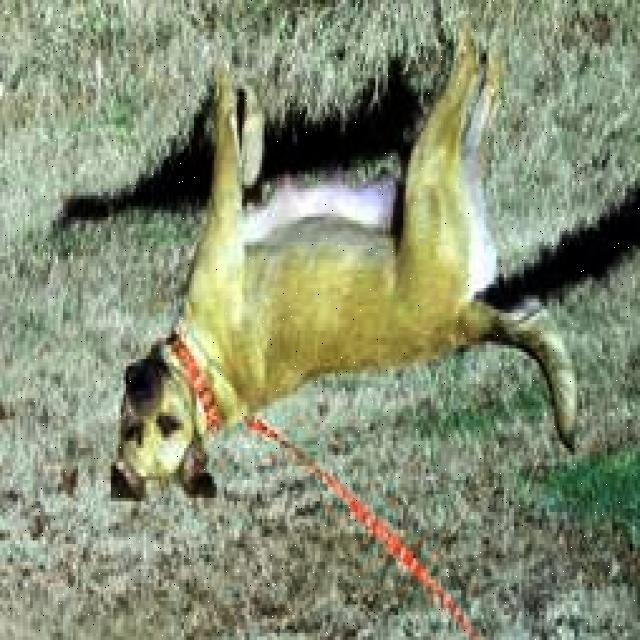Dog: (100, 347, 229, 523)
